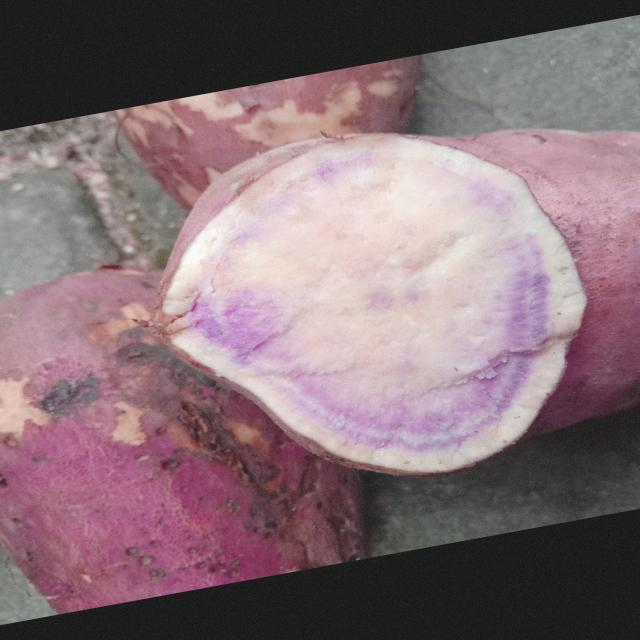Healthy Sweet Potato: (157, 134, 587, 474)
